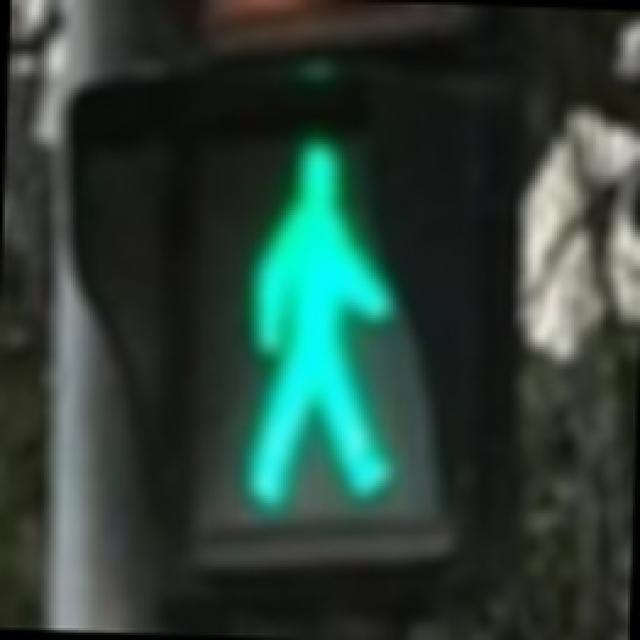geen-crossing: (191, 100, 437, 533)
